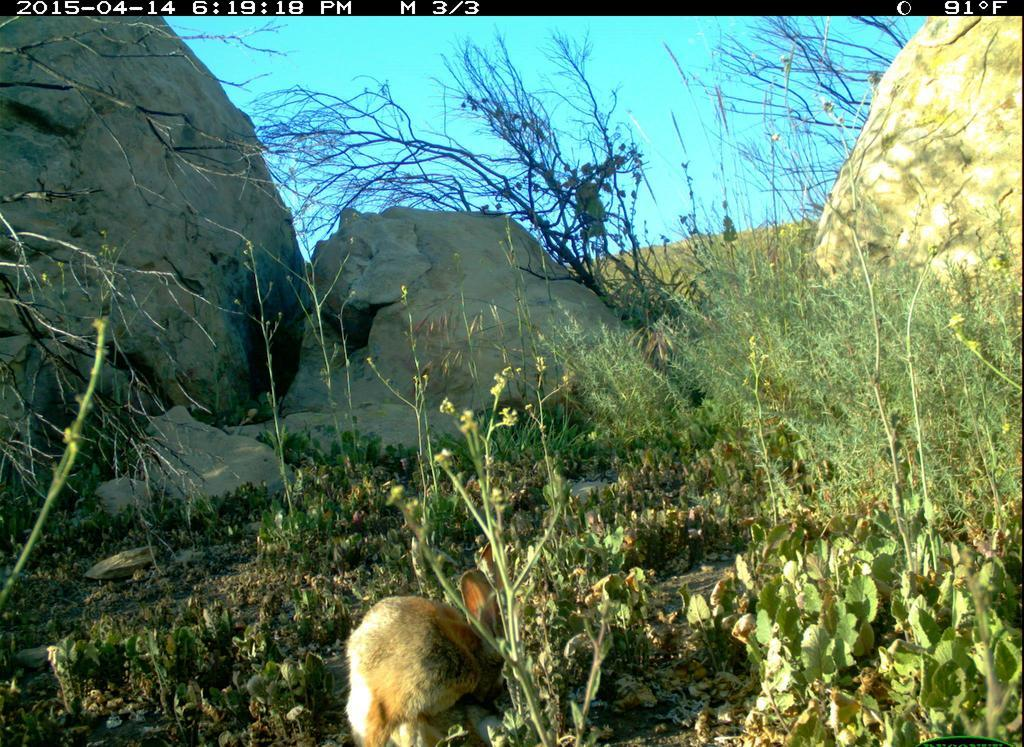rabbit: (327, 538, 564, 745)
